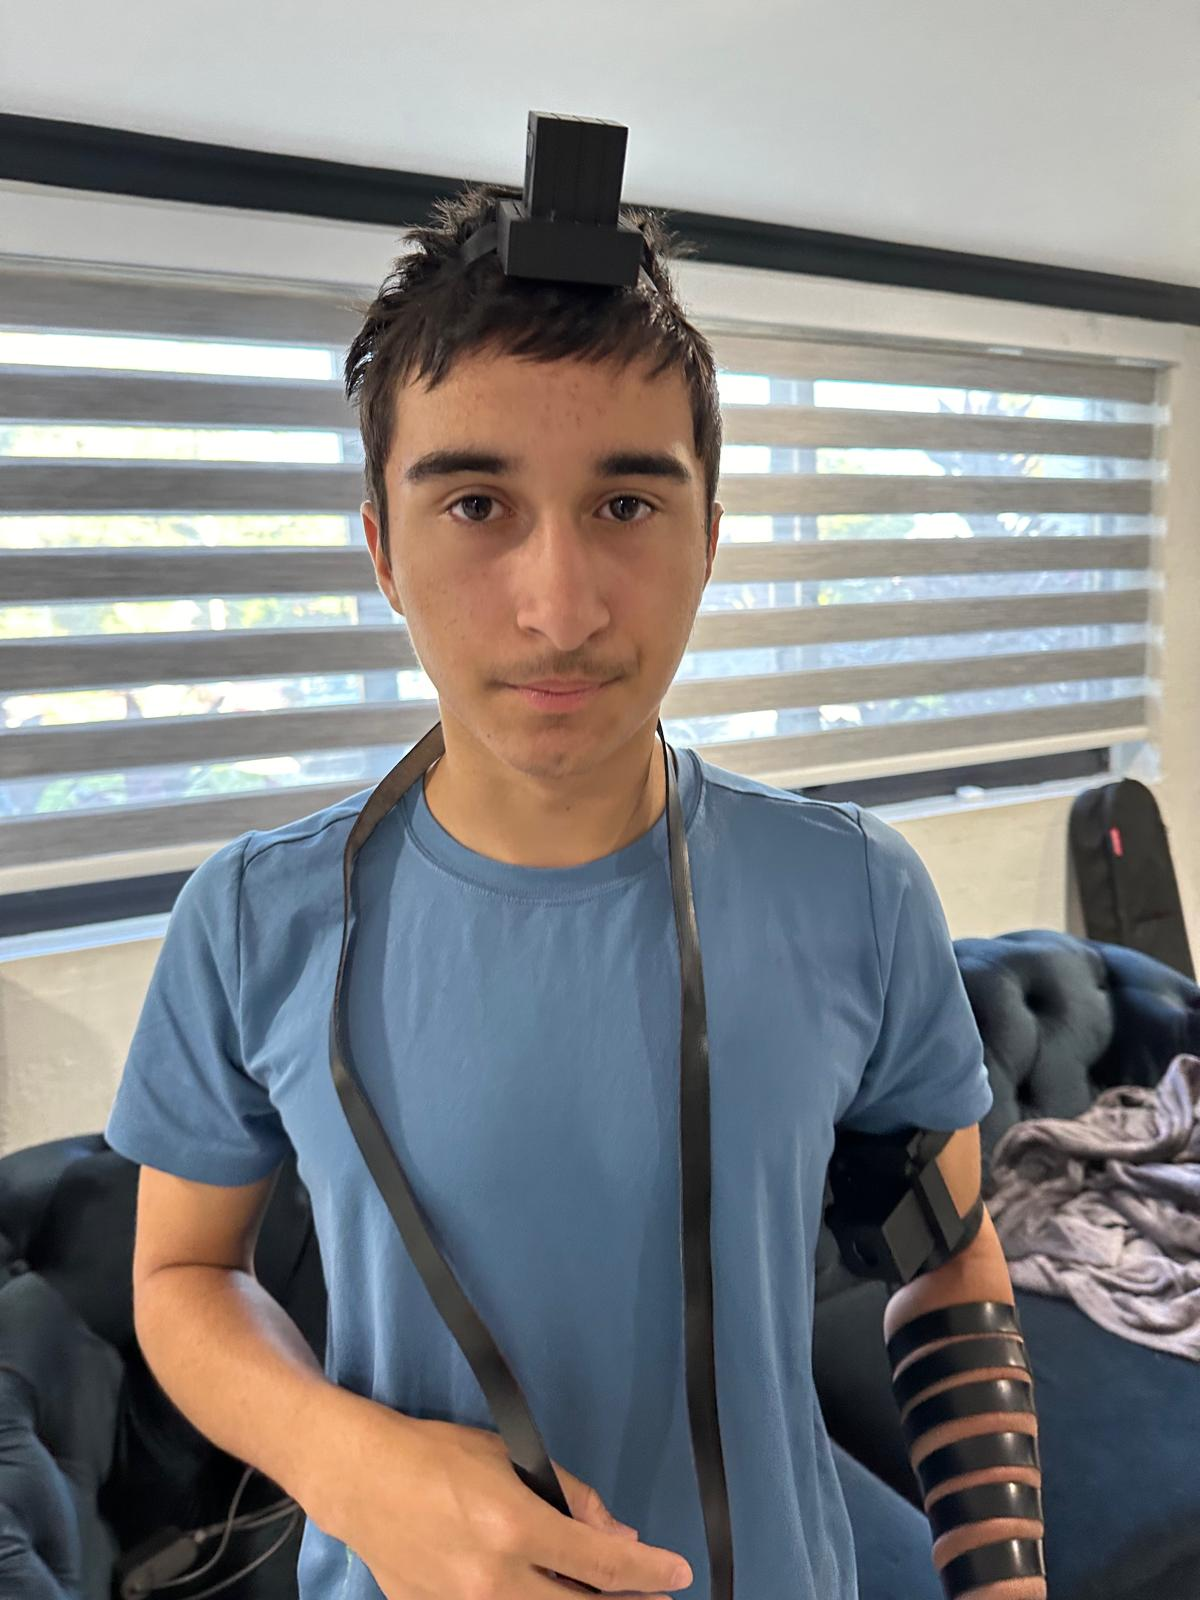tefillin: (497, 112, 640, 286), (828, 1129, 969, 1285)
